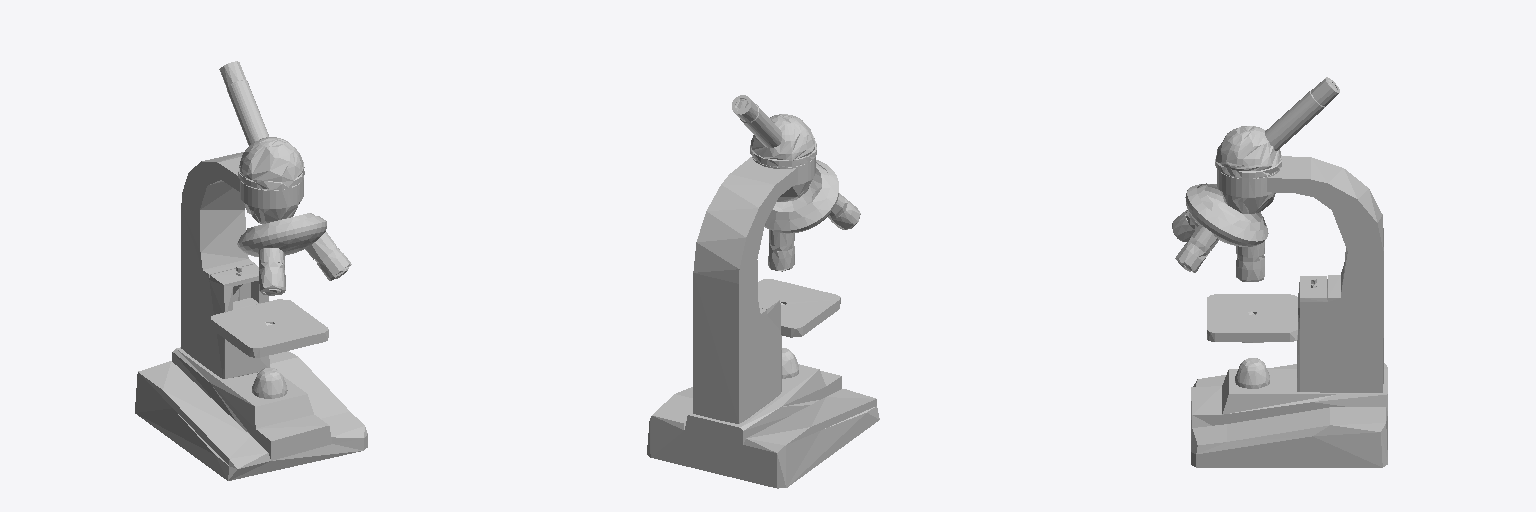
File: cuerpo-micro.obj
3 renders of one model, left to right at view 1: azimuth 30°, elevation 25°; view 2: azimuth 150°, elevation 25°; view 3: azimuth 270°, elevation 25°, orthographic.
Parts seen in each view (by area): view 1: MicroscopeFBXASC046003 polySurface2213, polySurface2218 MicroscopeFBXASC046003, MicroscopeFBXASC046003 polySurface2214, MicroscopeFBXASC046003 polySurface2212, MicroscopeFBXASC046003 polySurface2206, MicroscopeFBXASC046003 polySurface2215, MicroscopeFBXASC046003 polySurface2208, MicroscopeFBXASC046003 polySurface2207, MicroscopeFBXASC046003 polySurface2217; view 2: polySurface2218 MicroscopeFBXASC046003, MicroscopeFBXASC046003 polySurface2213, MicroscopeFBXASC046003 polySurface2214, MicroscopeFBXASC046003 polySurface2212, MicroscopeFBXASC046003 polySurface2206, MicroscopeFBXASC046003 polySurface2215, MicroscopeFBXASC046003 polySurface2209, MicroscopeFBXASC046003 polySurface2208; view 3: MicroscopeFBXASC046003 polySurface2213, polySurface2218 MicroscopeFBXASC046003, MicroscopeFBXASC046003 polySurface2214, MicroscopeFBXASC046003 polySurface2212, MicroscopeFBXASC046003 polySurface2206, MicroscopeFBXASC046003 polySurface2215, MicroscopeFBXASC046003 polySurface2207, MicroscopeFBXASC046003 polySurface2209, MicroscopeFBXASC046003 polySurface2217, MicroscopeFBXASC046003 polySurface2208.
Part boxes in pixels (x1,y1,x2,y2): MicroscopeFBXASC046003 polySurface2213: (135,347,367,480); polySurface2218 MicroscopeFBXASC046003: (181,152,269,378); MicroscopeFBXASC046003 polySurface2214: (238,137,304,223); MicroscopeFBXASC046003 polySurface2212: (211,299,328,357); MicroscopeFBXASC046003 polySurface2206: (237,213,326,256); MicroscopeFBXASC046003 polySurface2215: (219,61,268,145); MicroscopeFBXASC046003 polySurface2208: (258,248,285,295); MicroscopeFBXASC046003 polySurface2207: (305,232,351,280); MicroscopeFBXASC046003 polySurface2217: (252,368,287,398); polySurface2218 MicroscopeFBXASC046003: (693,157,797,423); MicroscopeFBXASC046003 polySurface2213: (647,364,879,488); MicroscopeFBXASC046003 polySurface2214: (750,114,816,201); MicroscopeFBXASC046003 polySurface2212: (758,279,840,337); MicroscopeFBXASC046003 polySurface2206: (764,160,838,233); MicroscopeFBXASC046003 polySurface2215: (732,95,781,147); MicroscopeFBXASC046003 polySurface2209: (768,230,794,271); MicroscopeFBXASC046003 polySurface2208: (812,187,860,229); MicroscopeFBXASC046003 polySurface2213: (1191,363,1387,467); polySurface2218 MicroscopeFBXASC046003: (1267,156,1383,392); MicroscopeFBXASC046003 polySurface2214: (1215,126,1281,213); MicroscopeFBXASC046003 polySurface2212: (1207,294,1297,341); MicroscopeFBXASC046003 polySurface2206: (1185,183,1268,246); MicroscopeFBXASC046003 polySurface2215: (1265,77,1339,150); MicroscopeFBXASC046003 polySurface2207: (1175,225,1218,272); MicroscopeFBXASC046003 polySurface2209: (1236,241,1264,281); MicroscopeFBXASC046003 polySurface2217: (1235,358,1269,388); MicroscopeFBXASC046003 polySurface2208: (1172,195,1218,241).
Size of the model in its own units: 0.8276 by 2.01 by 1.11.